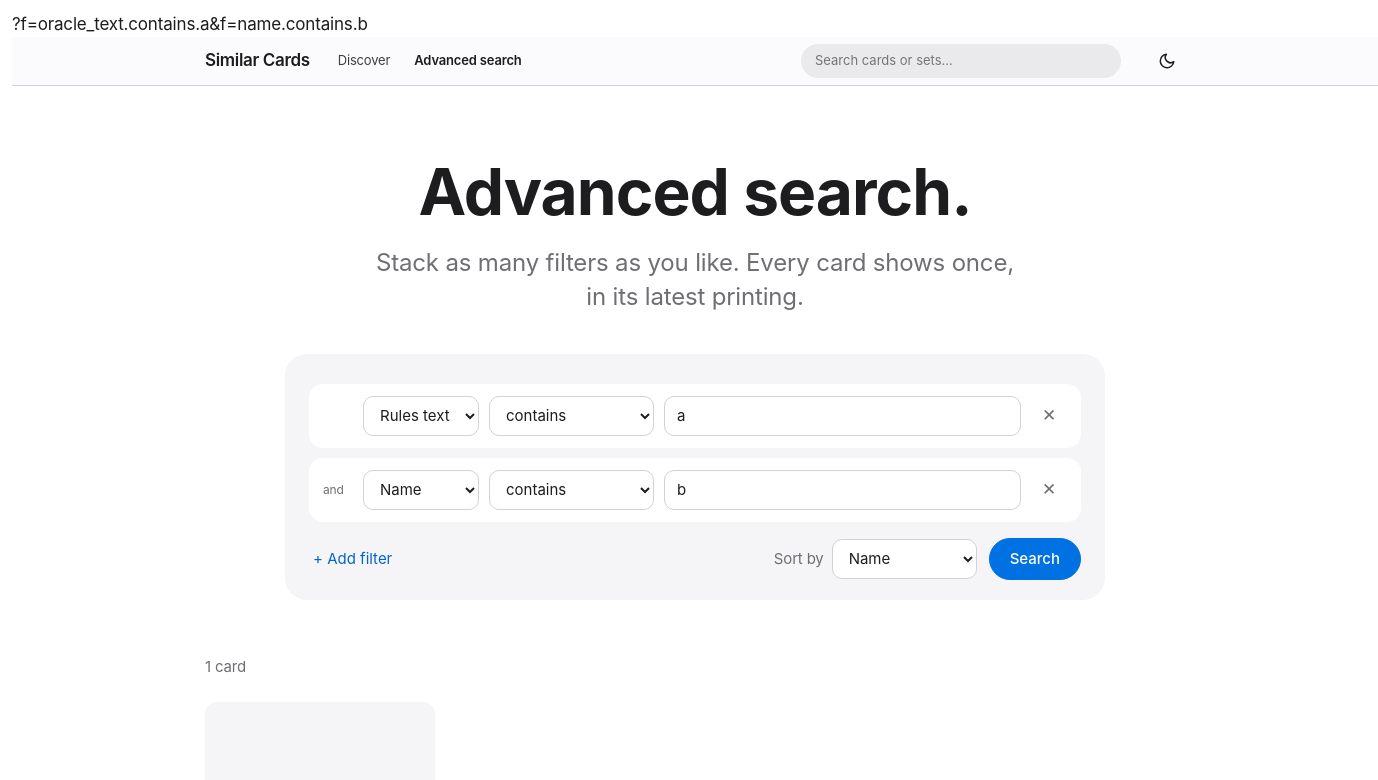
AdvancedSearchPage › removes a row from the next request
The width and height of the screenshot is (1378, 780).
Click the button named "Remove filter": (1049, 416) x1=1031 y1=398 x2=1067 y2=434
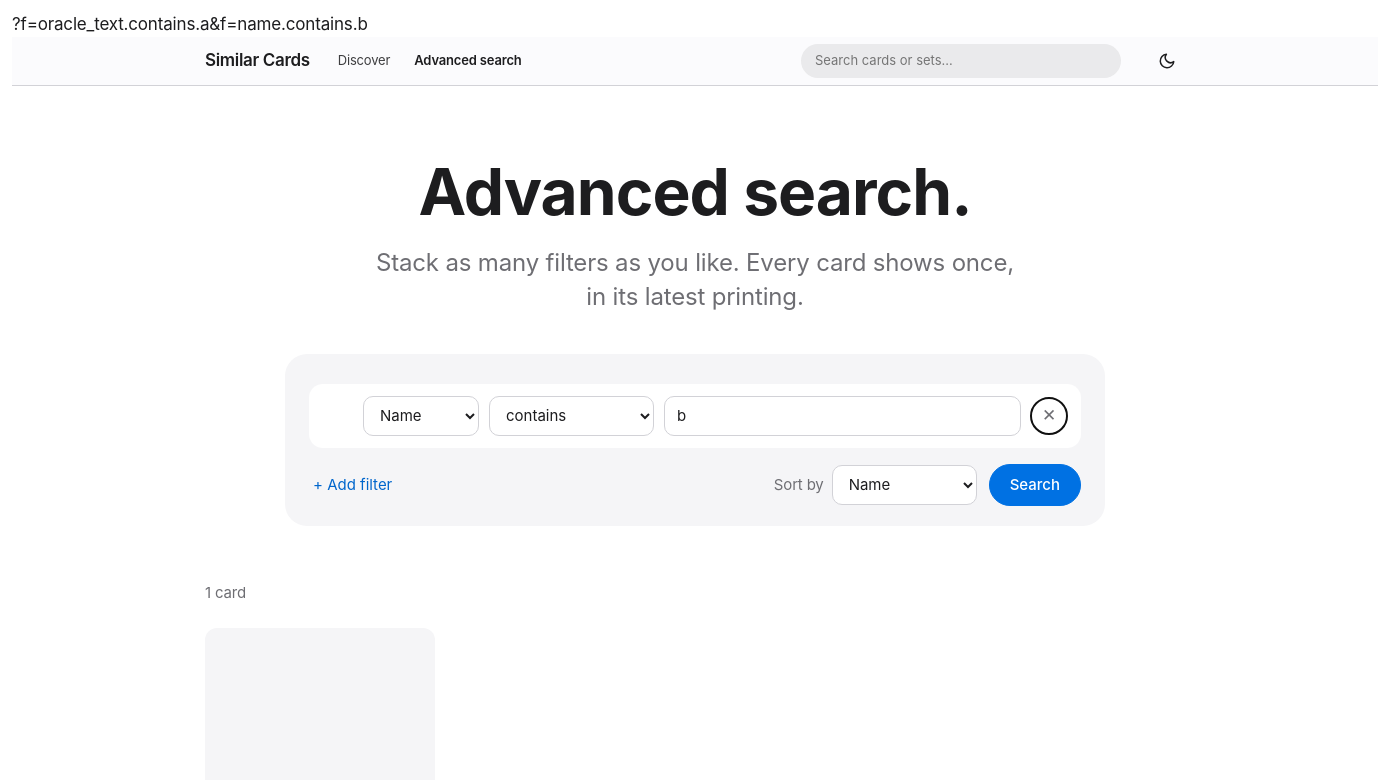
Click the button "Search": (1035, 485) x1=989 y1=464 x2=1081 y2=506
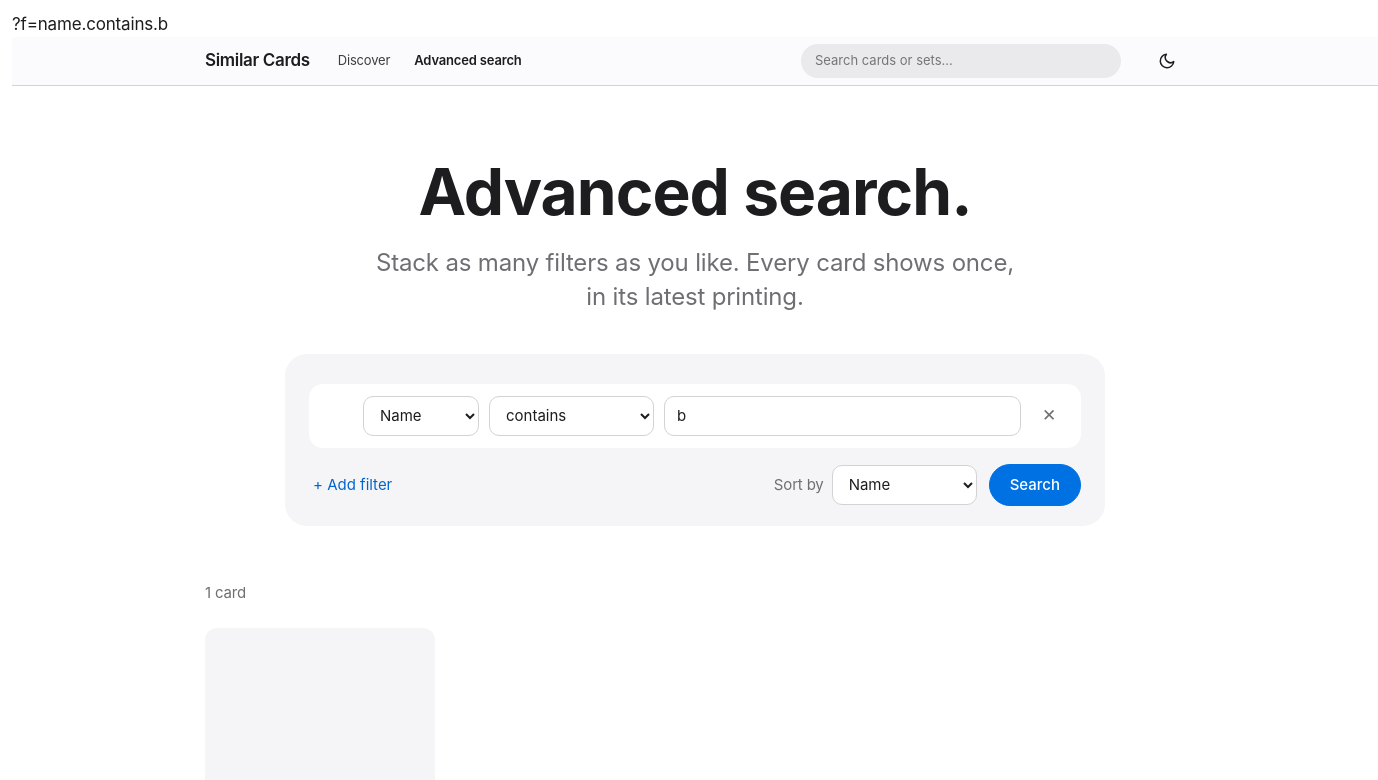
Expected: the text with test id "loc" reads "?f=name.contains.b", x1=12 y1=14 x2=168 y2=34
